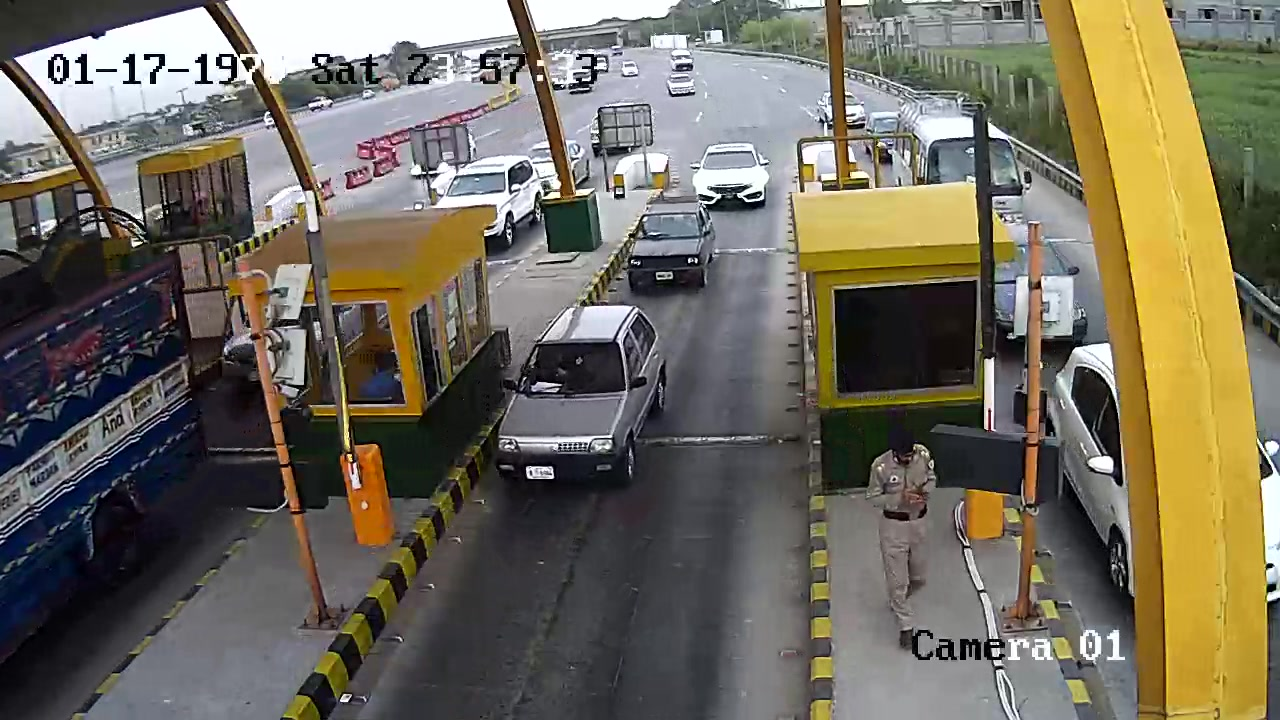F1: (476, 304, 665, 508)
